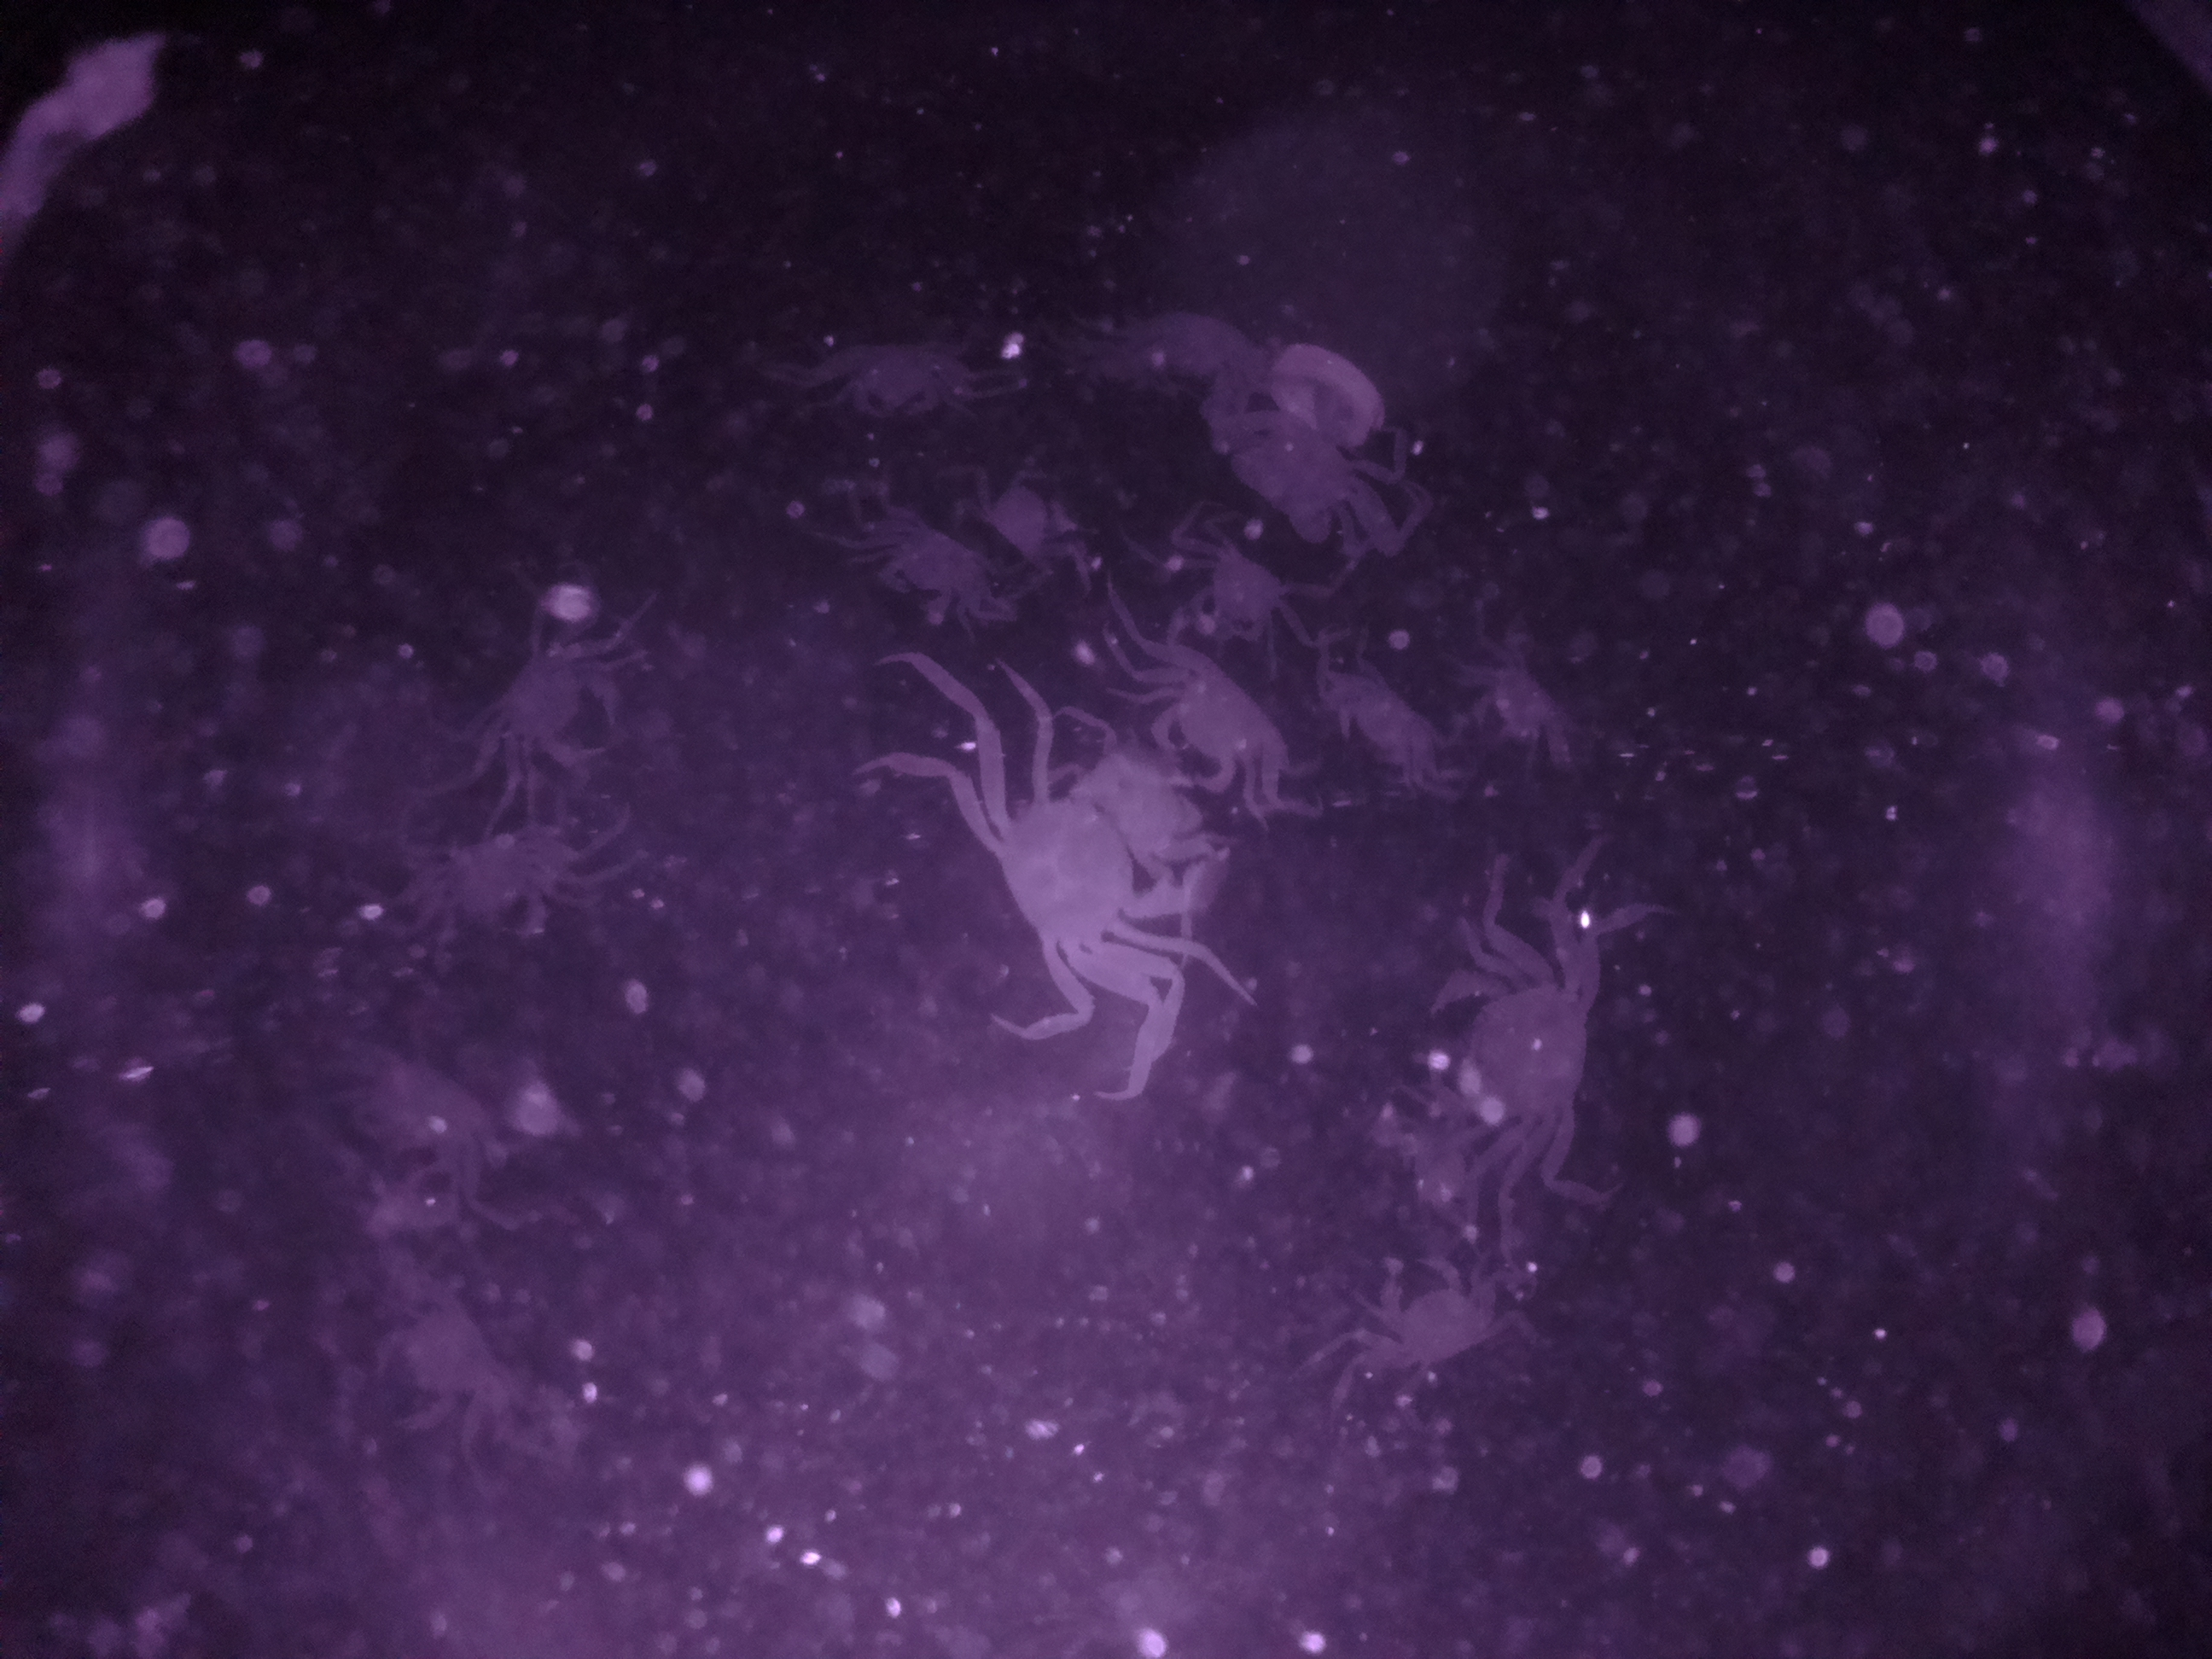Crab: (479, 598, 641, 819), (1127, 622, 1296, 817), (1329, 1237, 1526, 1389), (862, 498, 1003, 645)
